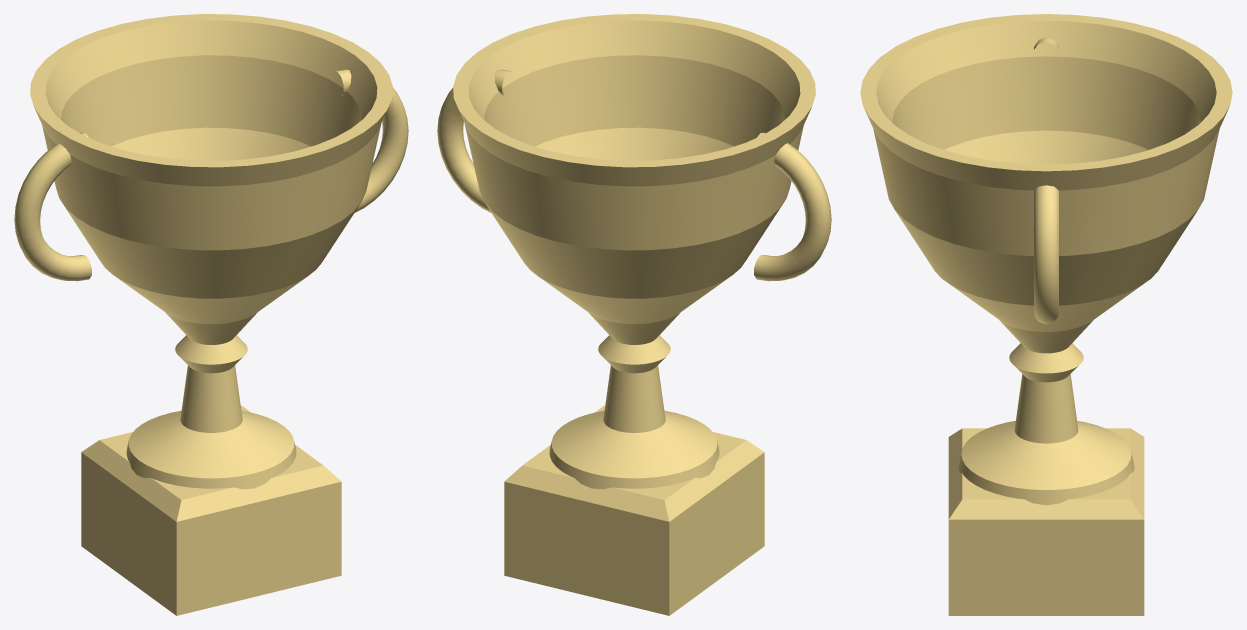
The model's file is cup.glb.
The picture shows the model from 3 angles, left to right: view 1: azimuth 30°, elevation 25°; view 2: azimuth 150°, elevation 25°; view 3: azimuth 270°, elevation 25°; orthographic projection. The views are drawn at different scales.
Visible parts, largest first — view 1: cup; view 2: cup; view 3: cup.
Part boxes in pixels (x1,y1,x2,y2): cup: [14, 14, 408, 615]; cup: [437, 14, 831, 615]; cup: [860, 14, 1232, 615].
Bounding box in the file's own units: 0.87 × 1 × 0.7.
